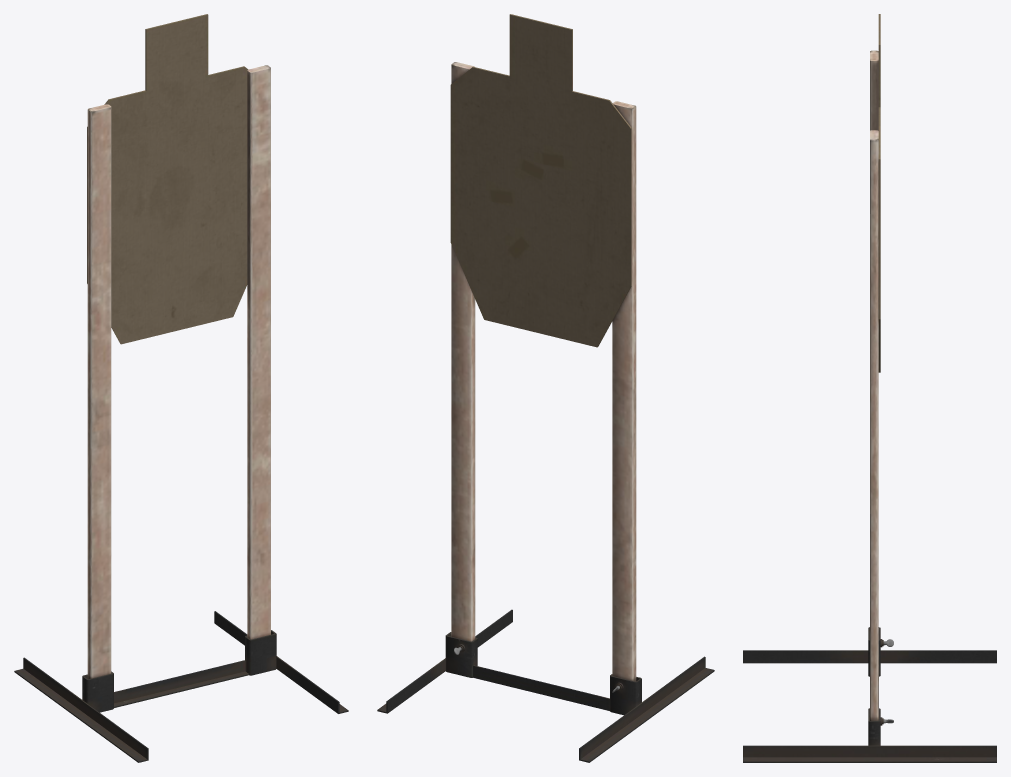
File: paper.gltf
3 renders of one model, left to right at view 1: azimuth 30°, elevation 25°; view 2: azimuth 150°, elevation 25°; view 3: azimuth 270°, elevation 25°, orthographic. The views are drawn at different scales.
Visible parts, largest first — view 1: Stand; view 2: Stand; view 3: Stand.
Part boxes in pixels (box(x1,y1,x2,y2)): Stand: box(14, 14, 348, 762); Stand: box(377, 14, 714, 762); Stand: box(743, 14, 996, 762).
Size of the model in its own units: 0.542 by 1.64 by 0.5545.
Materials: 1 (1 with a texture image).
